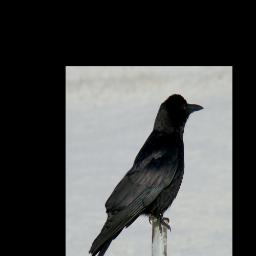Crow: (88, 93, 205, 256)
